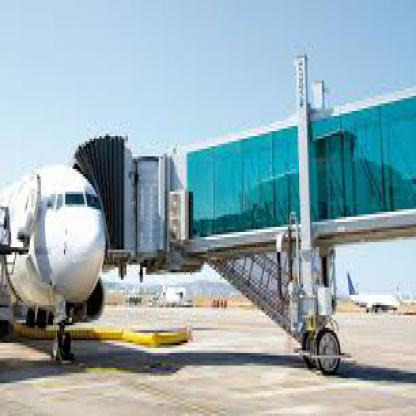boarding bridge: (69, 134, 128, 280)
